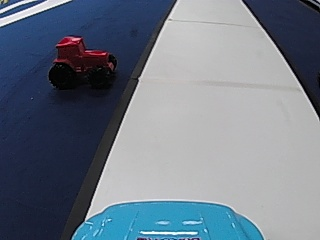tractor: (46, 32, 118, 89)
